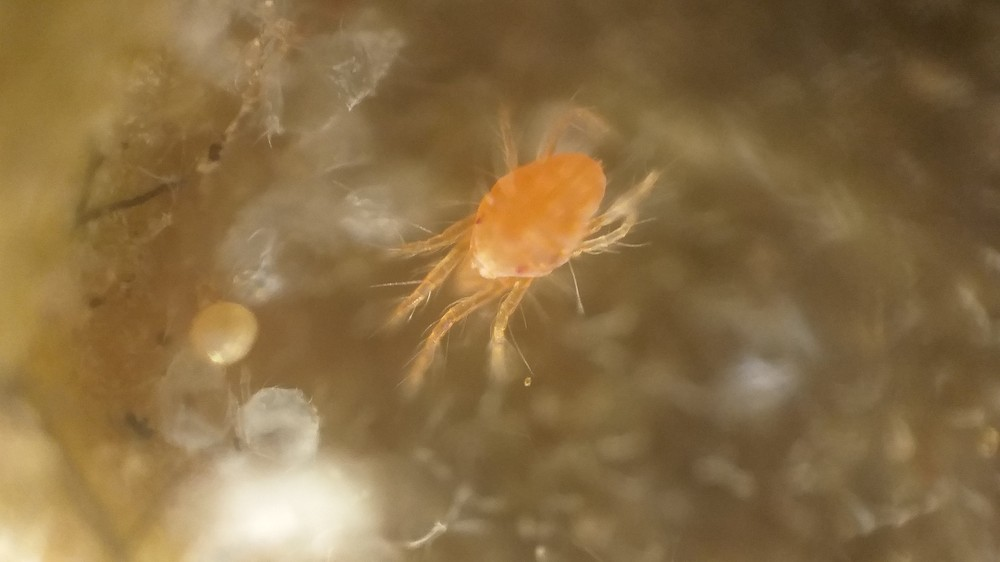Aracnido Rojo: (352, 92, 689, 414)
